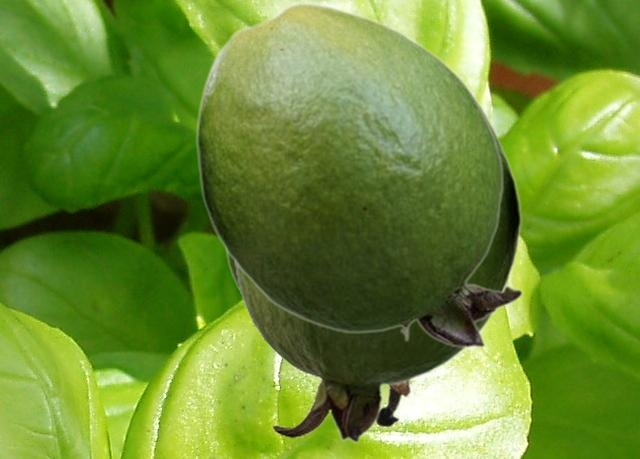guava: (195, 1, 523, 347), (233, 85, 521, 442), (224, 252, 414, 427)
